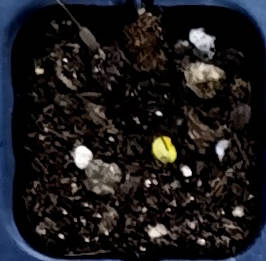pepper seed: (61, 53, 240, 218)
